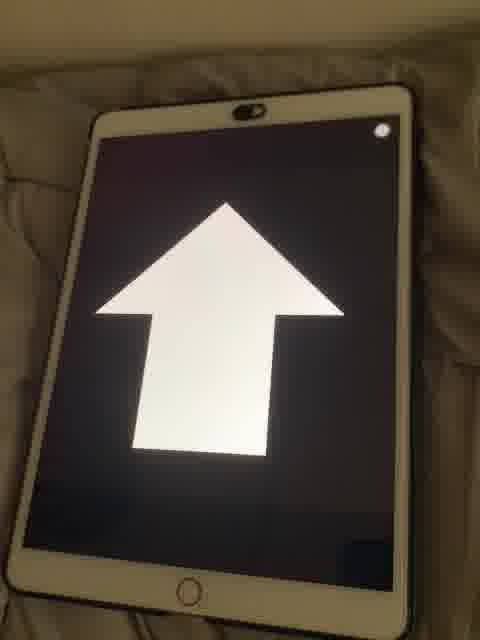up: (88, 200, 347, 458)
